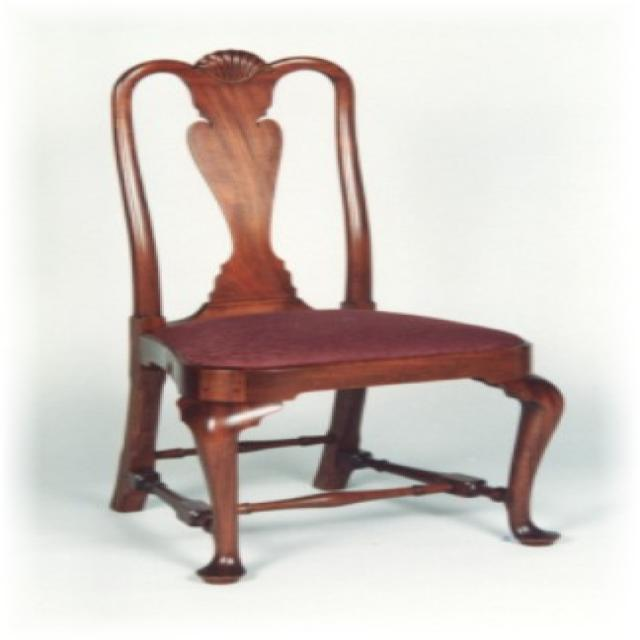chair: (105, 48, 567, 582)
